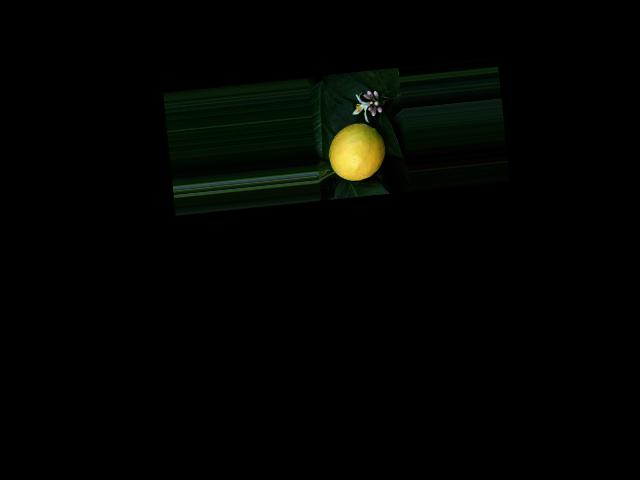lemon: (318, 114, 393, 191)
